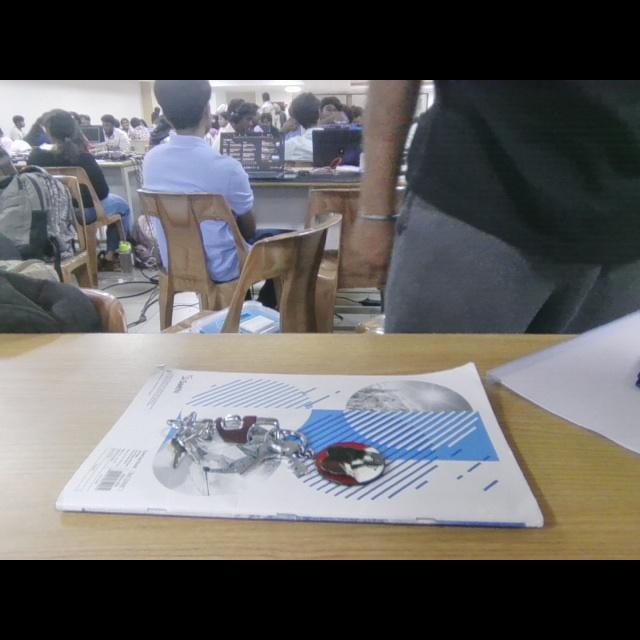keys: (167, 411, 384, 485)
